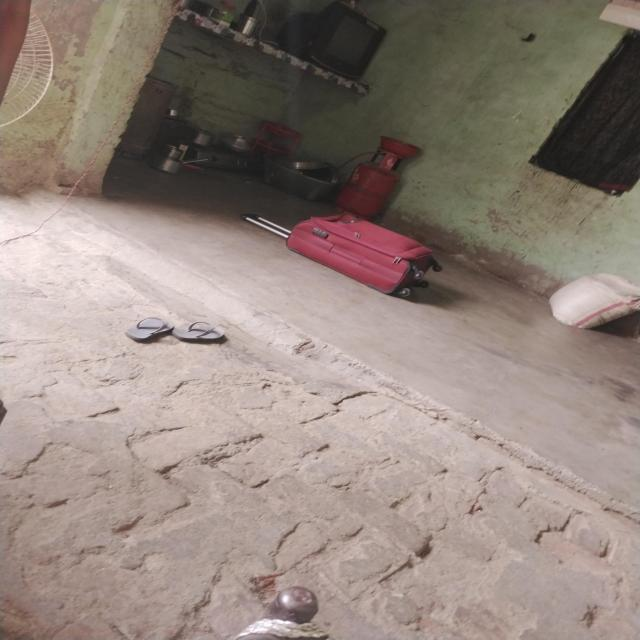luggage: (286, 208, 438, 297)
